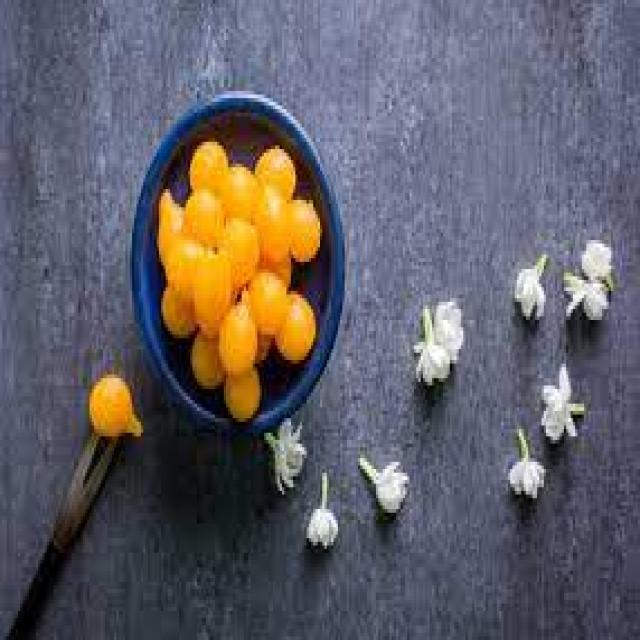Tongyord: (150, 120, 325, 414), (90, 374, 148, 454)
